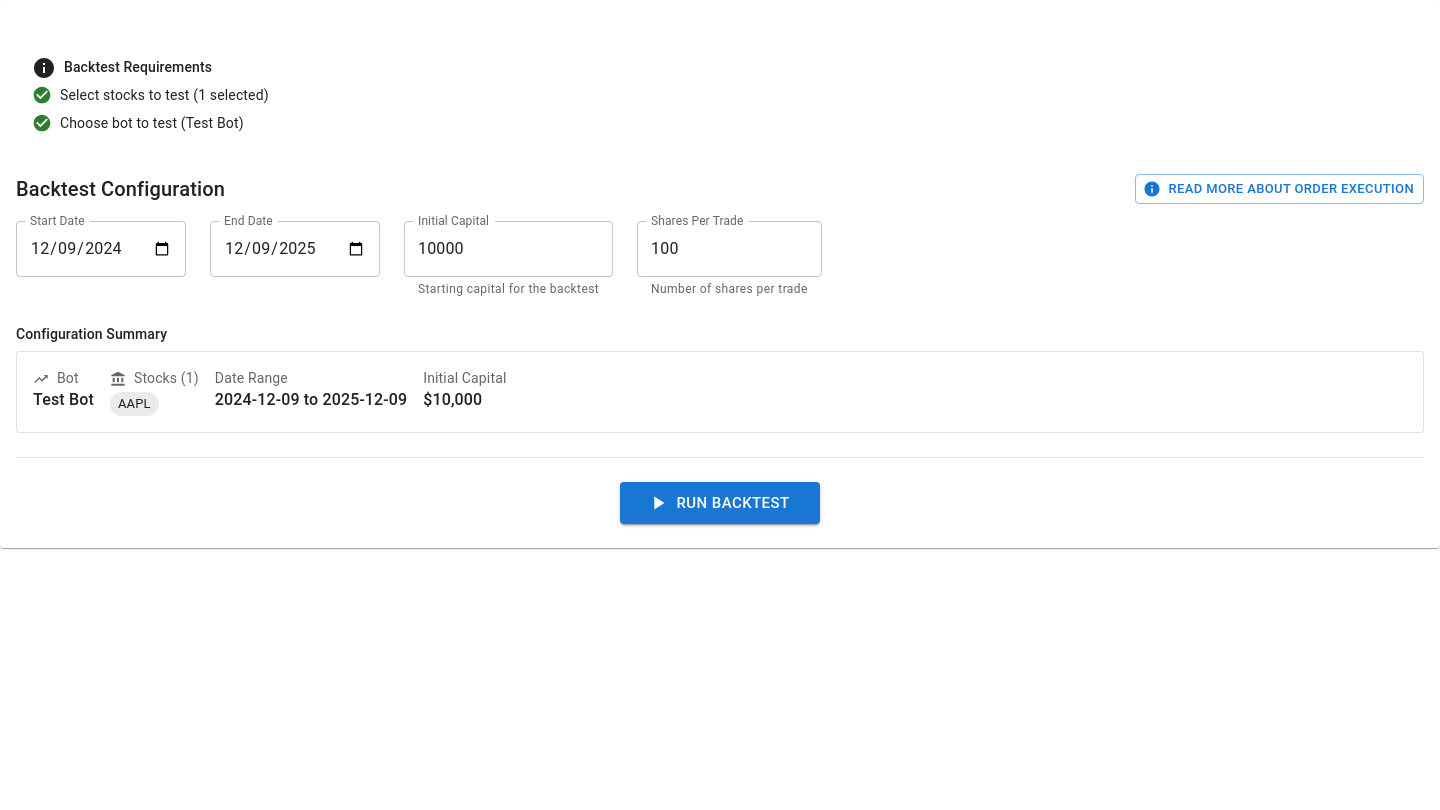
Test: BacktestSessionControls › handles API errors gracefully
The image size is (1440, 810).
Click the button "Run Backtest".
click(720, 503)  # box [620,482,820,524]
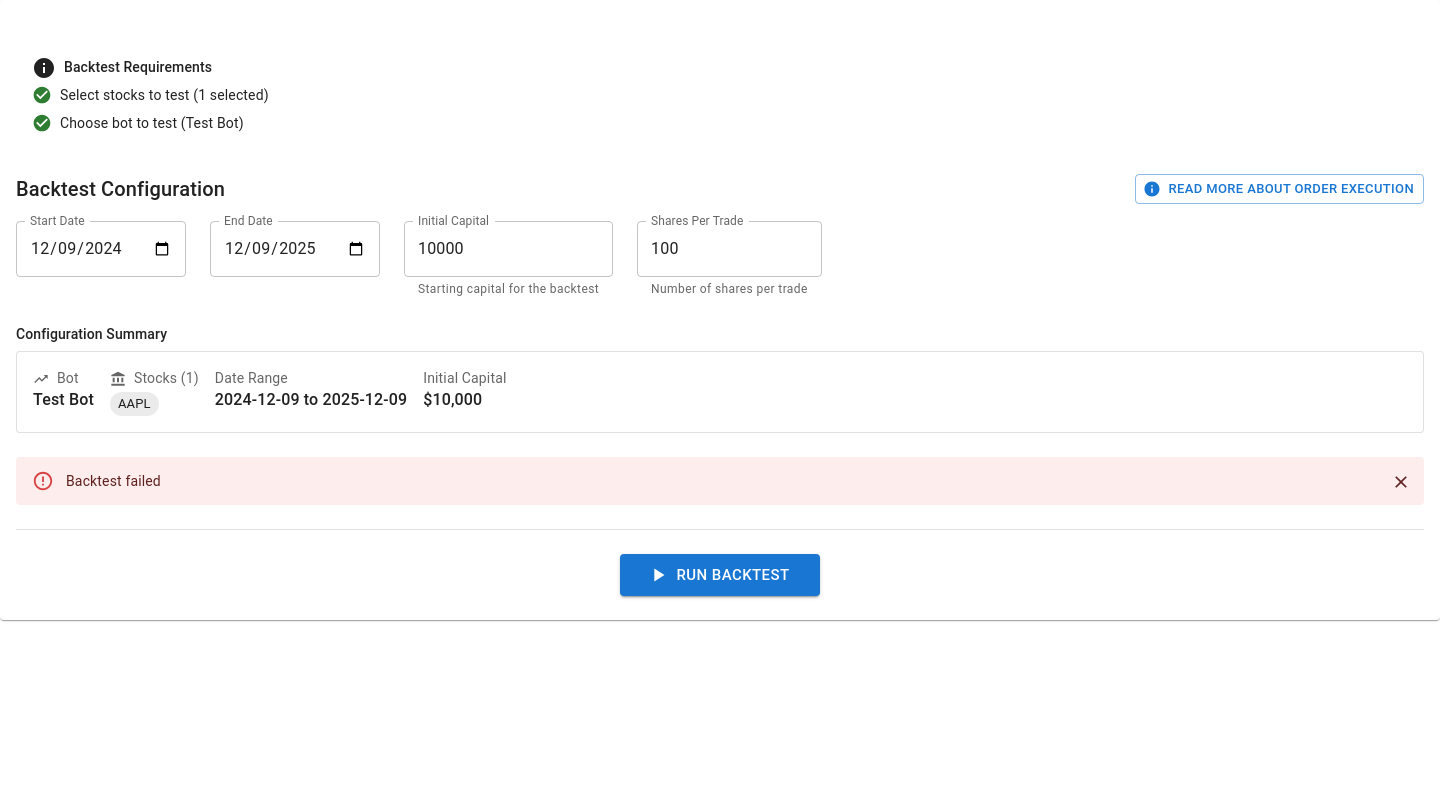
Check: the text "Backtest failed" is shown, box [66,473,161,489]
